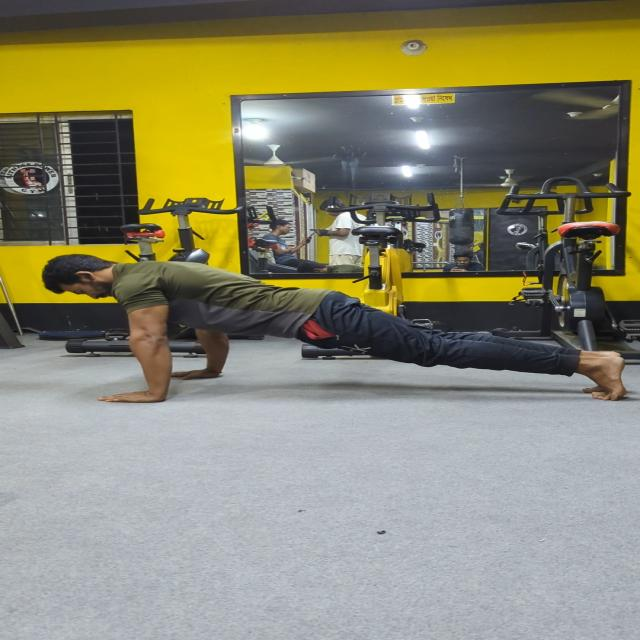Normal_PushUps: (6, 232, 640, 447)
